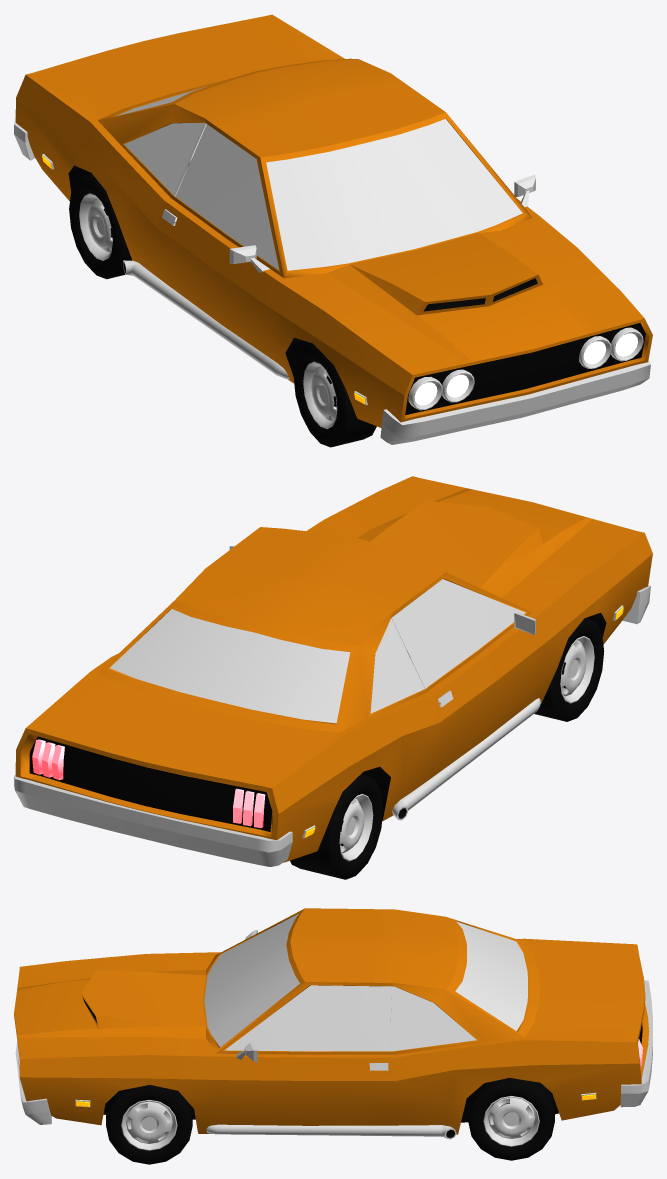
File: car2.glb
The picture shows the model from 3 angles, top to bottom: view 1: azimuth 30°, elevation 25°; view 2: azimuth 150°, elevation 25°; view 3: azimuth 270°, elevation 25°; orthographic projection. The views are drawn at different scales.
Parts seen in each view (by area): view 1: car, right_front_wheel, right_rear_wheel; view 2: car, right_rear_wheel, right_front_wheel; view 3: car, left_rear_wheel, left_front_wheel.
Boxes of the visible parts, x1,y1,x2,y2 form: car: (14, 14, 652, 444); right_front_wheel: (293, 343, 376, 447); right_rear_wheel: (69, 173, 132, 279); car: (14, 476, 652, 866); right_rear_wheel: (290, 774, 383, 879); right_front_wheel: (534, 617, 604, 721); car: (14, 908, 652, 1139); left_rear_wheel: (468, 1078, 554, 1160); left_front_wheel: (106, 1085, 192, 1164).
Bounding box in the file's own units: 5.46 × 3.6 × 12.16.
